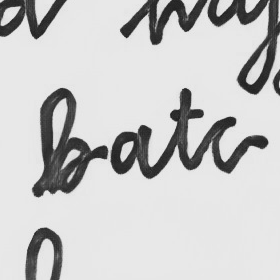a: (108, 121, 154, 179)
b: (36, 86, 92, 196)
c: (209, 115, 248, 175)
t: (165, 86, 208, 171)
